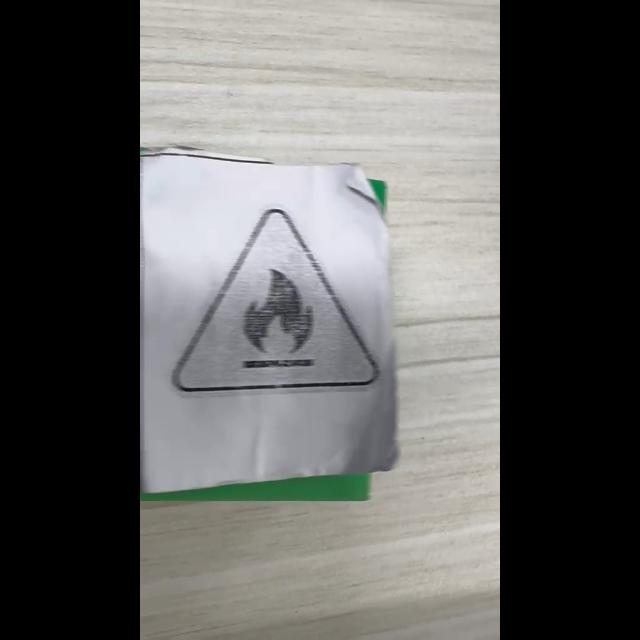Fire: (172, 209, 379, 399)
